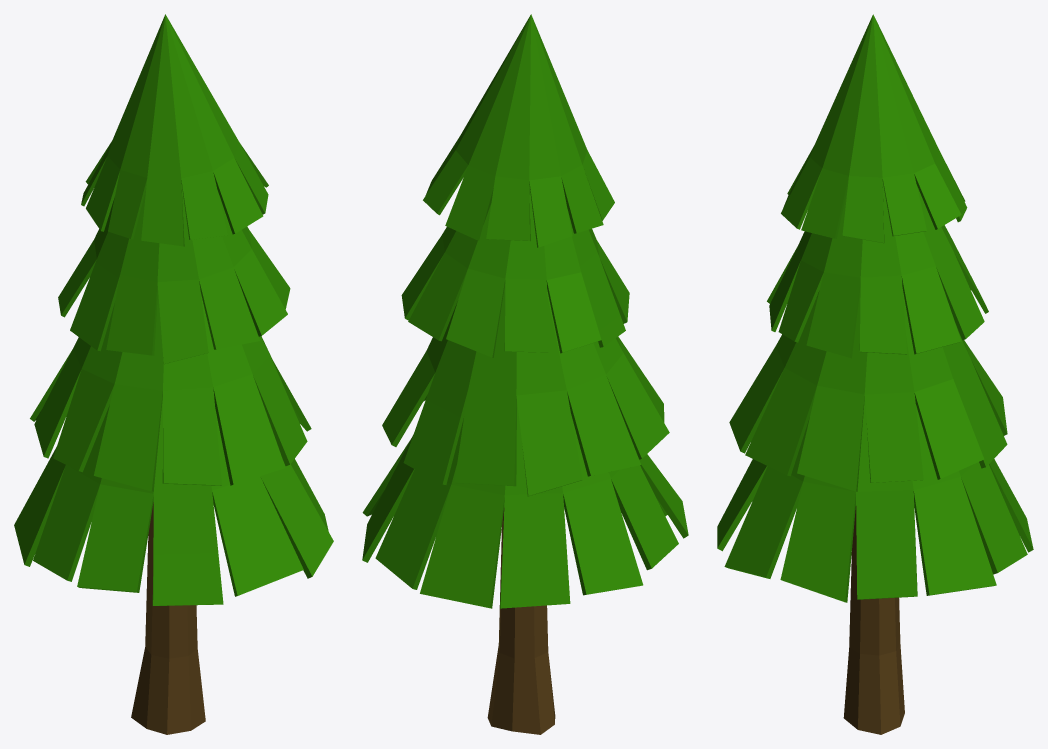
File: fir.fbx
The picture shows the model from 3 angles, left to right: view 1: azimuth 30°, elevation 25°; view 2: azimuth 150°, elevation 25°; view 3: azimuth 270°, elevation 25°; orthographic projection.
Parts seen in each view (by area): view 1: fir; view 2: fir; view 3: fir.
Boxes of the visible parts, bbox=[...] form: fir: bbox=[14, 14, 333, 734]; fir: bbox=[362, 14, 688, 734]; fir: bbox=[717, 14, 1033, 734].
Size of the model in its own units: 6.88 by 17.11 by 6.99.
